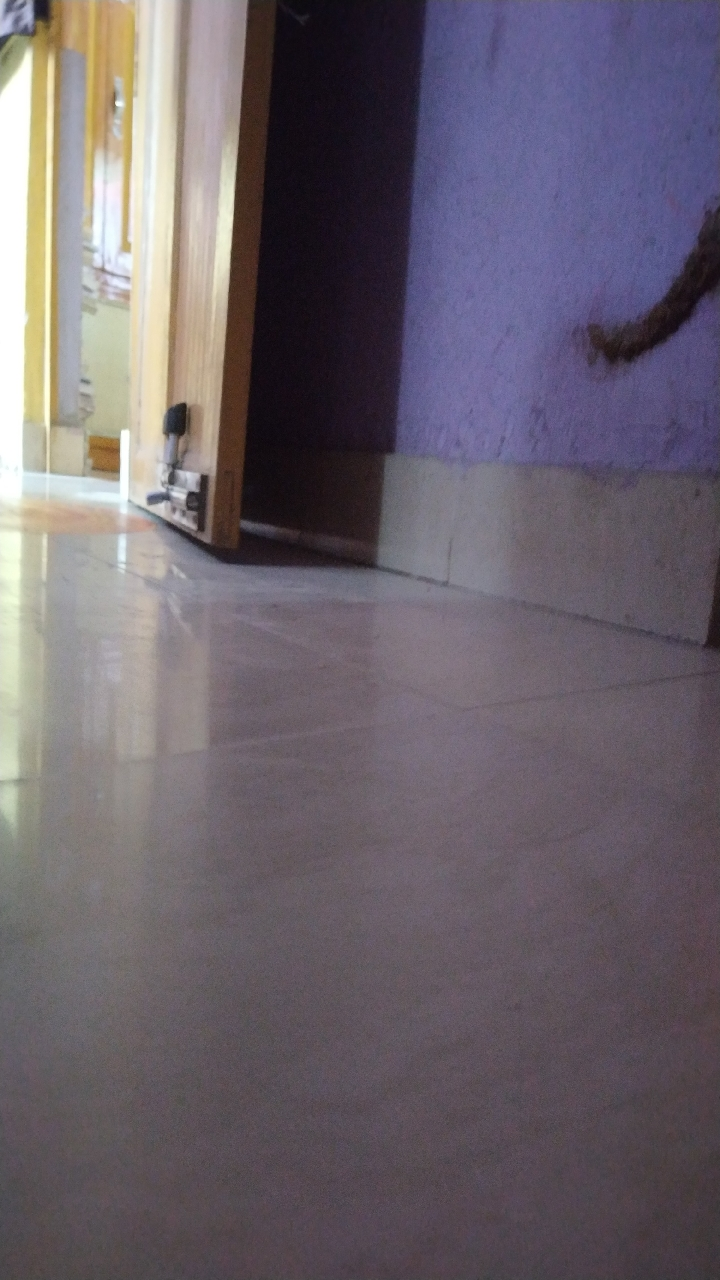Doors: (116, 7, 254, 573)
